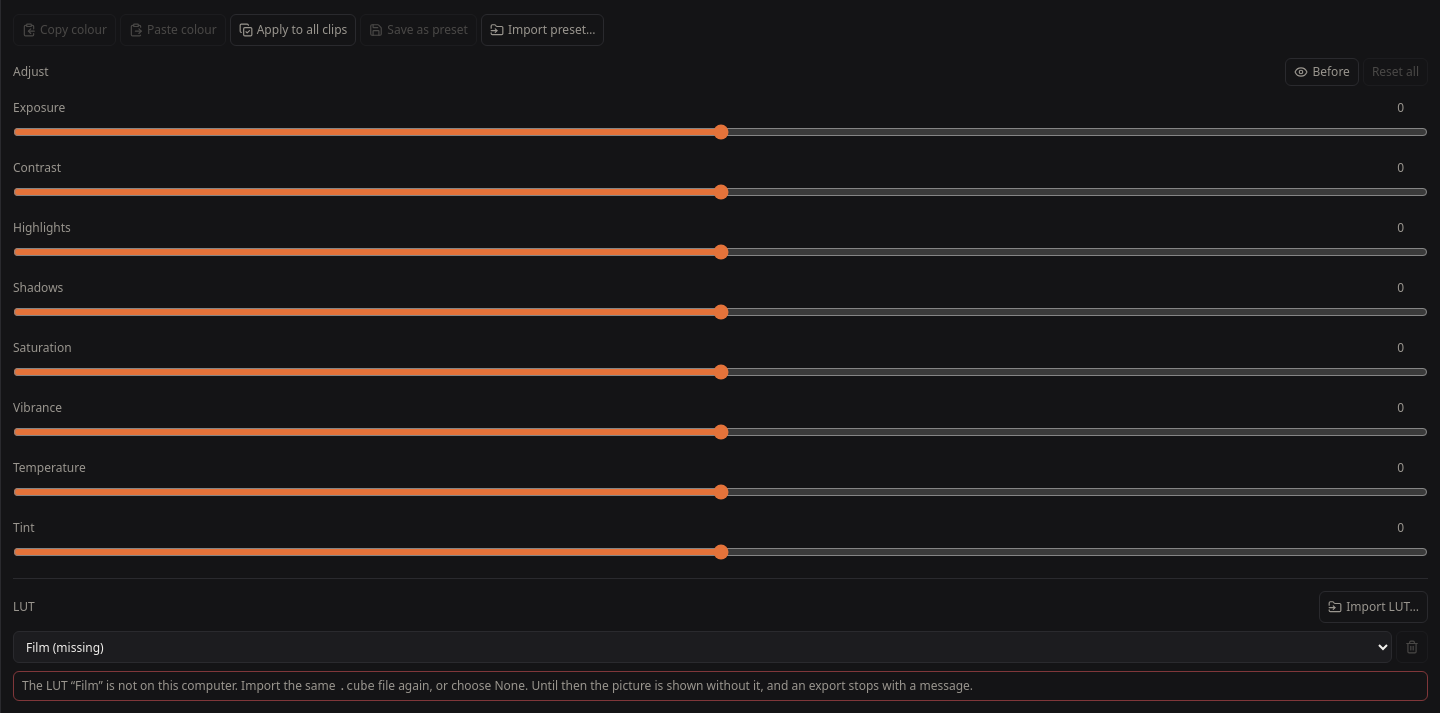
Test: a LUT in the preview and the Color tab › leaves a LUT that is not on this computer out of the preview and says so in the Color tab
The image size is (1440, 713).
(page scrolled)
Check: the message shows "“Film” is not on this computer", box [13,671,1428,701]
Step 1. Select "None" in the dropdown labelled "LUT" → x=702, y=647, box [13,631,1392,663]
(page scrolled)
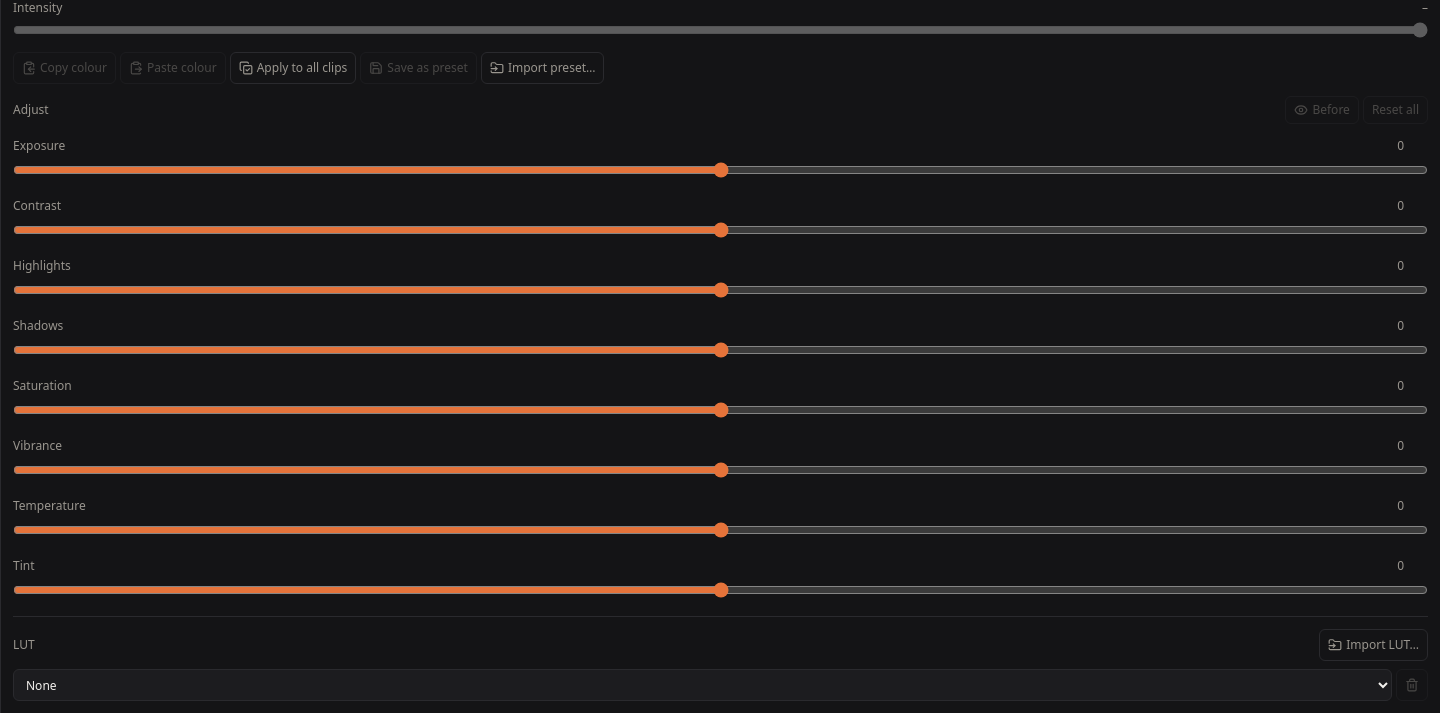
Check: the message is gone
